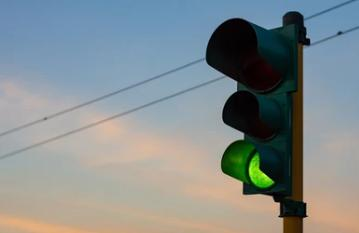green_light: (205, 18, 298, 195)
